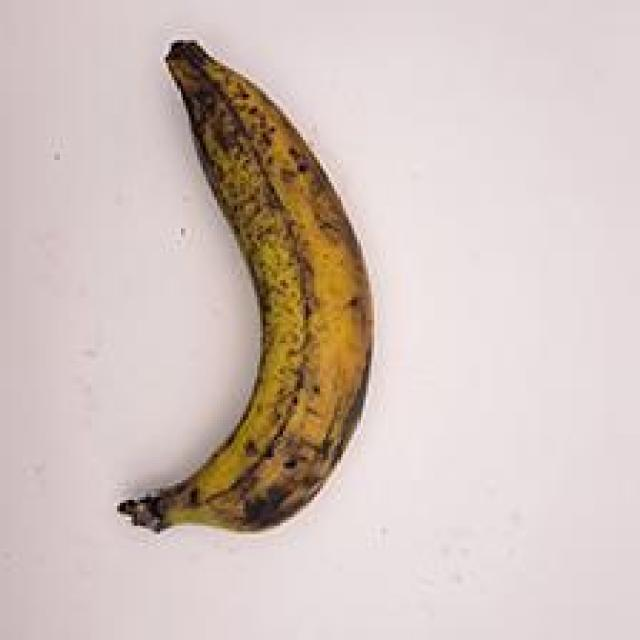Overripe: (97, 16, 396, 570)
